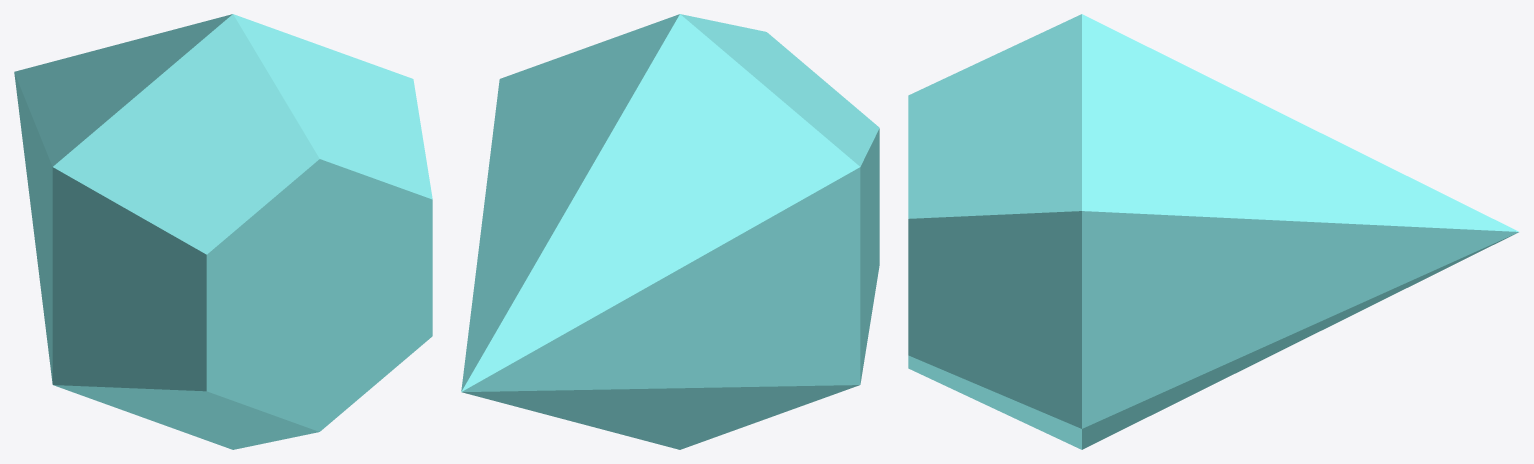
Rendered from item-diamond.glb.
The picture shows the model from 3 angles, left to right: view 1: azimuth 30°, elevation 25°; view 2: azimuth 150°, elevation 25°; view 3: azimuth 270°, elevation 25°; orthographic projection.
Bounding box in the file's own units: 1.73 × 2 × 2.54.
